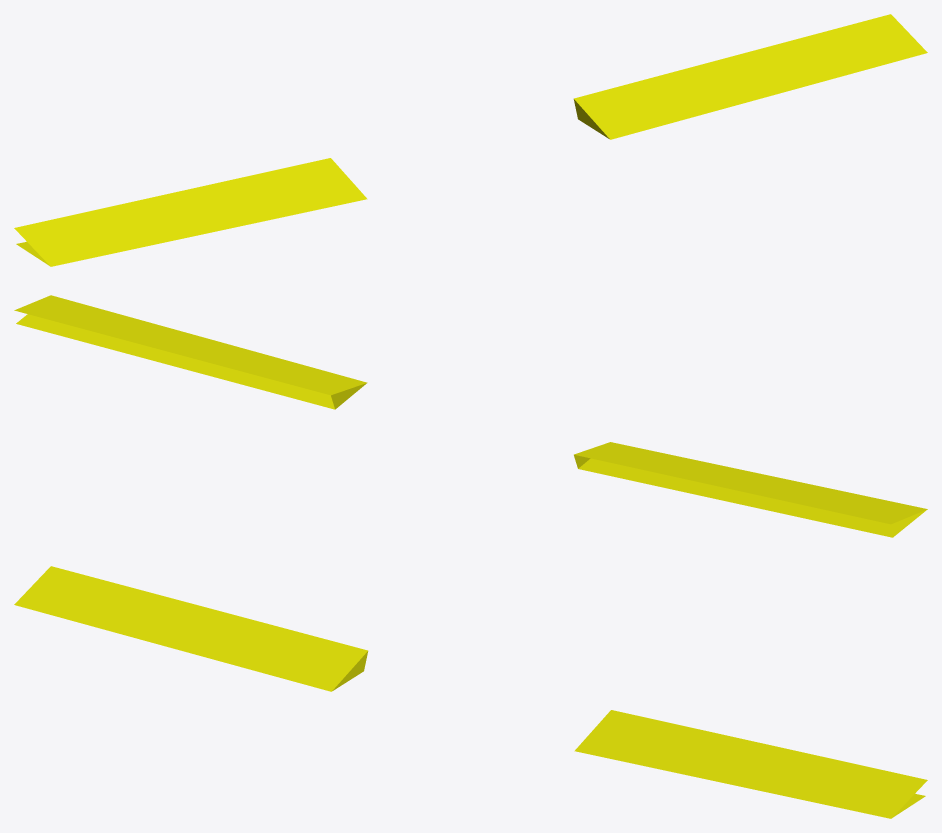
Rendered from cessna 150 NEW flaps.glb.
3 views of the same model, one above another, from view 1: azimuth 30°, elevation 25°; view 2: azimuth 150°, elevation 25°; view 3: azimuth 330°, elevation 25° (orthographic).
Visible parts, largest first — view 1: Flaps; view 2: Flaps; view 3: Flaps.
Part boxes in pixels (box(x1,y1,x2,y2)): Flaps: box(14, 14, 927, 266); Flaps: box(14, 295, 927, 537); Flaps: box(14, 566, 927, 818).
Size of the model in its own units: 4.18 by 0.1134 by 0.3075.
